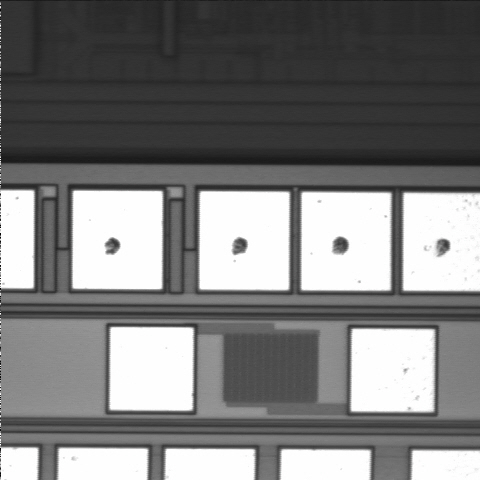pad: (199, 191, 289, 290), (301, 192, 391, 291), (73, 191, 163, 289), (110, 327, 193, 411), (351, 329, 434, 412)
